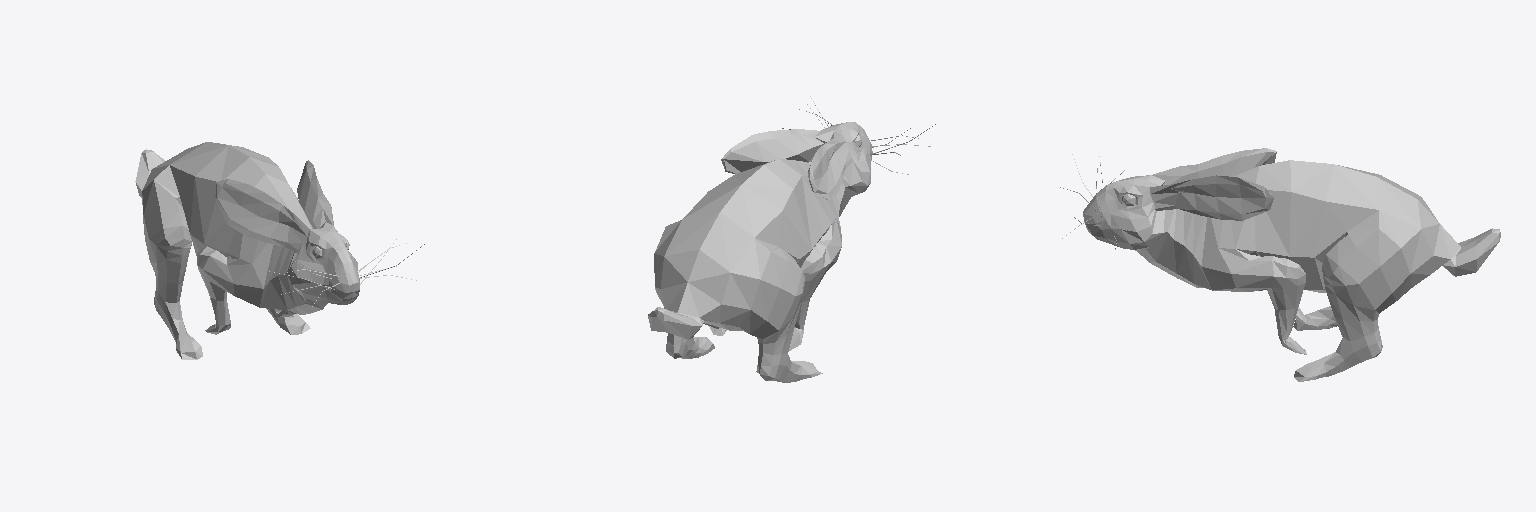
File: rabbit_15.obj
The picture shows the model from 3 angles: view 1: azimuth 30°, elevation 25°; view 2: azimuth 150°, elevation 25°; view 3: azimuth 270°, elevation 25°; orthographic projection.
Parts seen in each view (by area): view 1: Rabbit_Cylinder; view 2: Rabbit_Cylinder; view 3: Rabbit_Cylinder.
Boxes of the visible parts, <box> form: Rabbit_Cylinder: <box>135,142,424,359</box>; Rabbit_Cylinder: <box>648,96,935,382</box>; Rabbit_Cylinder: <box>1060,148,1500,381</box>.
Size of the model in its own units: 7.11 by 9.73 by 20.18.